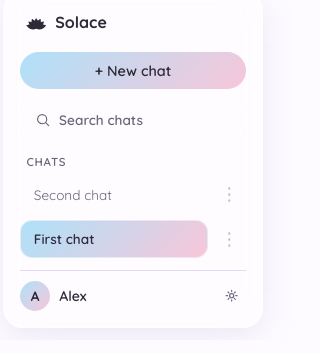
it: Sidebar › search › filters the list by title as you type
This screenshot has width=320, height=353.
Click the button "Search chats" at (133, 120), box x1=20 y1=101 x2=246 y2=138
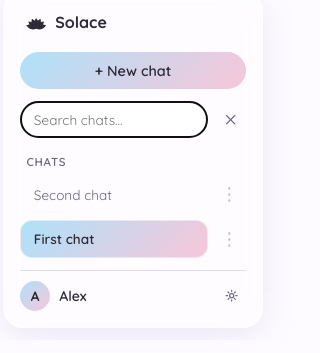
Type "second" into the field labelled "Search chats" at (114, 120), box x1=20 y1=101 x2=208 y2=138
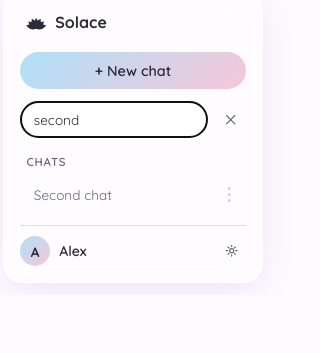
Expected: the button "Second chat" is shown, x1=20 y1=175 x2=208 y2=213
Result: the button "First chat" is gone
